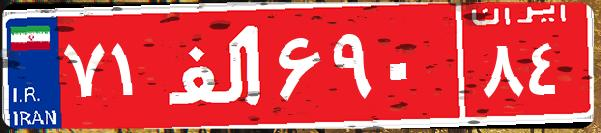0: (385, 28, 445, 110)
1: (110, 28, 158, 105)
4: (525, 38, 570, 115)
6: (273, 28, 330, 110)
7: (57, 26, 110, 107)
8: (475, 38, 525, 113)
9: (330, 28, 385, 110)
الف: (158, 15, 273, 115)
